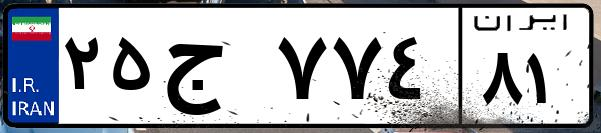1: (525, 38, 570, 115)
2: (57, 26, 110, 100)
4: (385, 28, 445, 110)
5: (110, 28, 158, 98)
7: (270, 28, 330, 110), (330, 28, 385, 110)
8: (475, 38, 525, 113)
ج: (158, 20, 270, 120)
